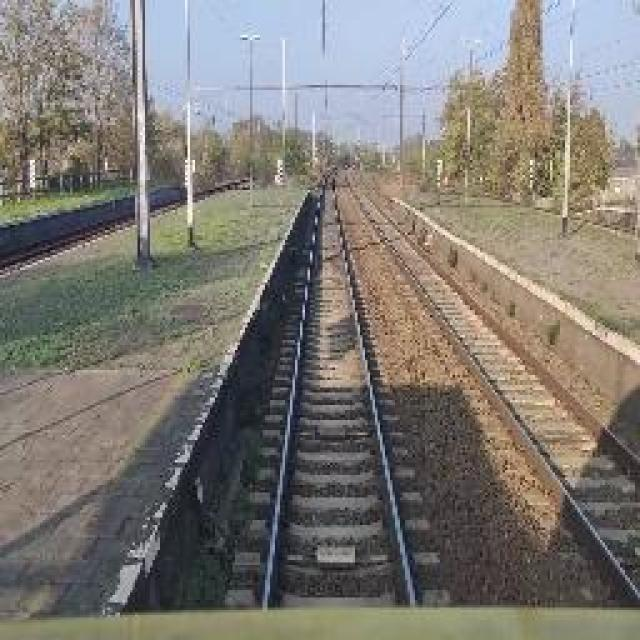rail: (345, 170, 640, 612), (219, 169, 455, 613)
